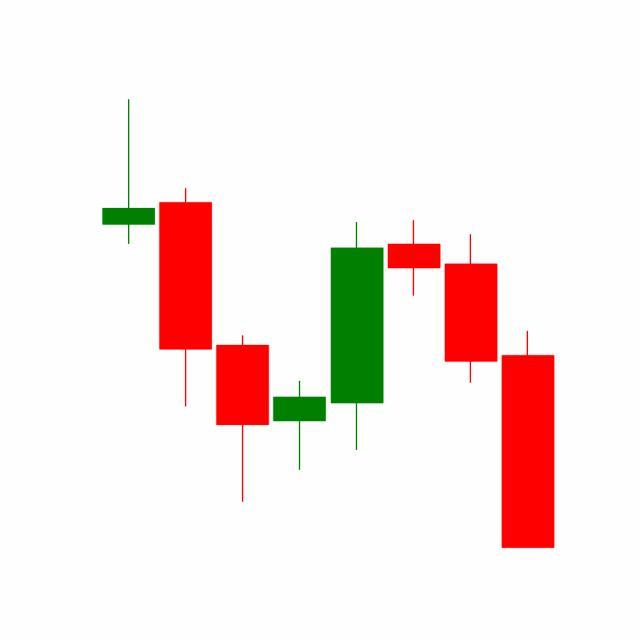Hikkake Pattern: (270, 216, 555, 549)
